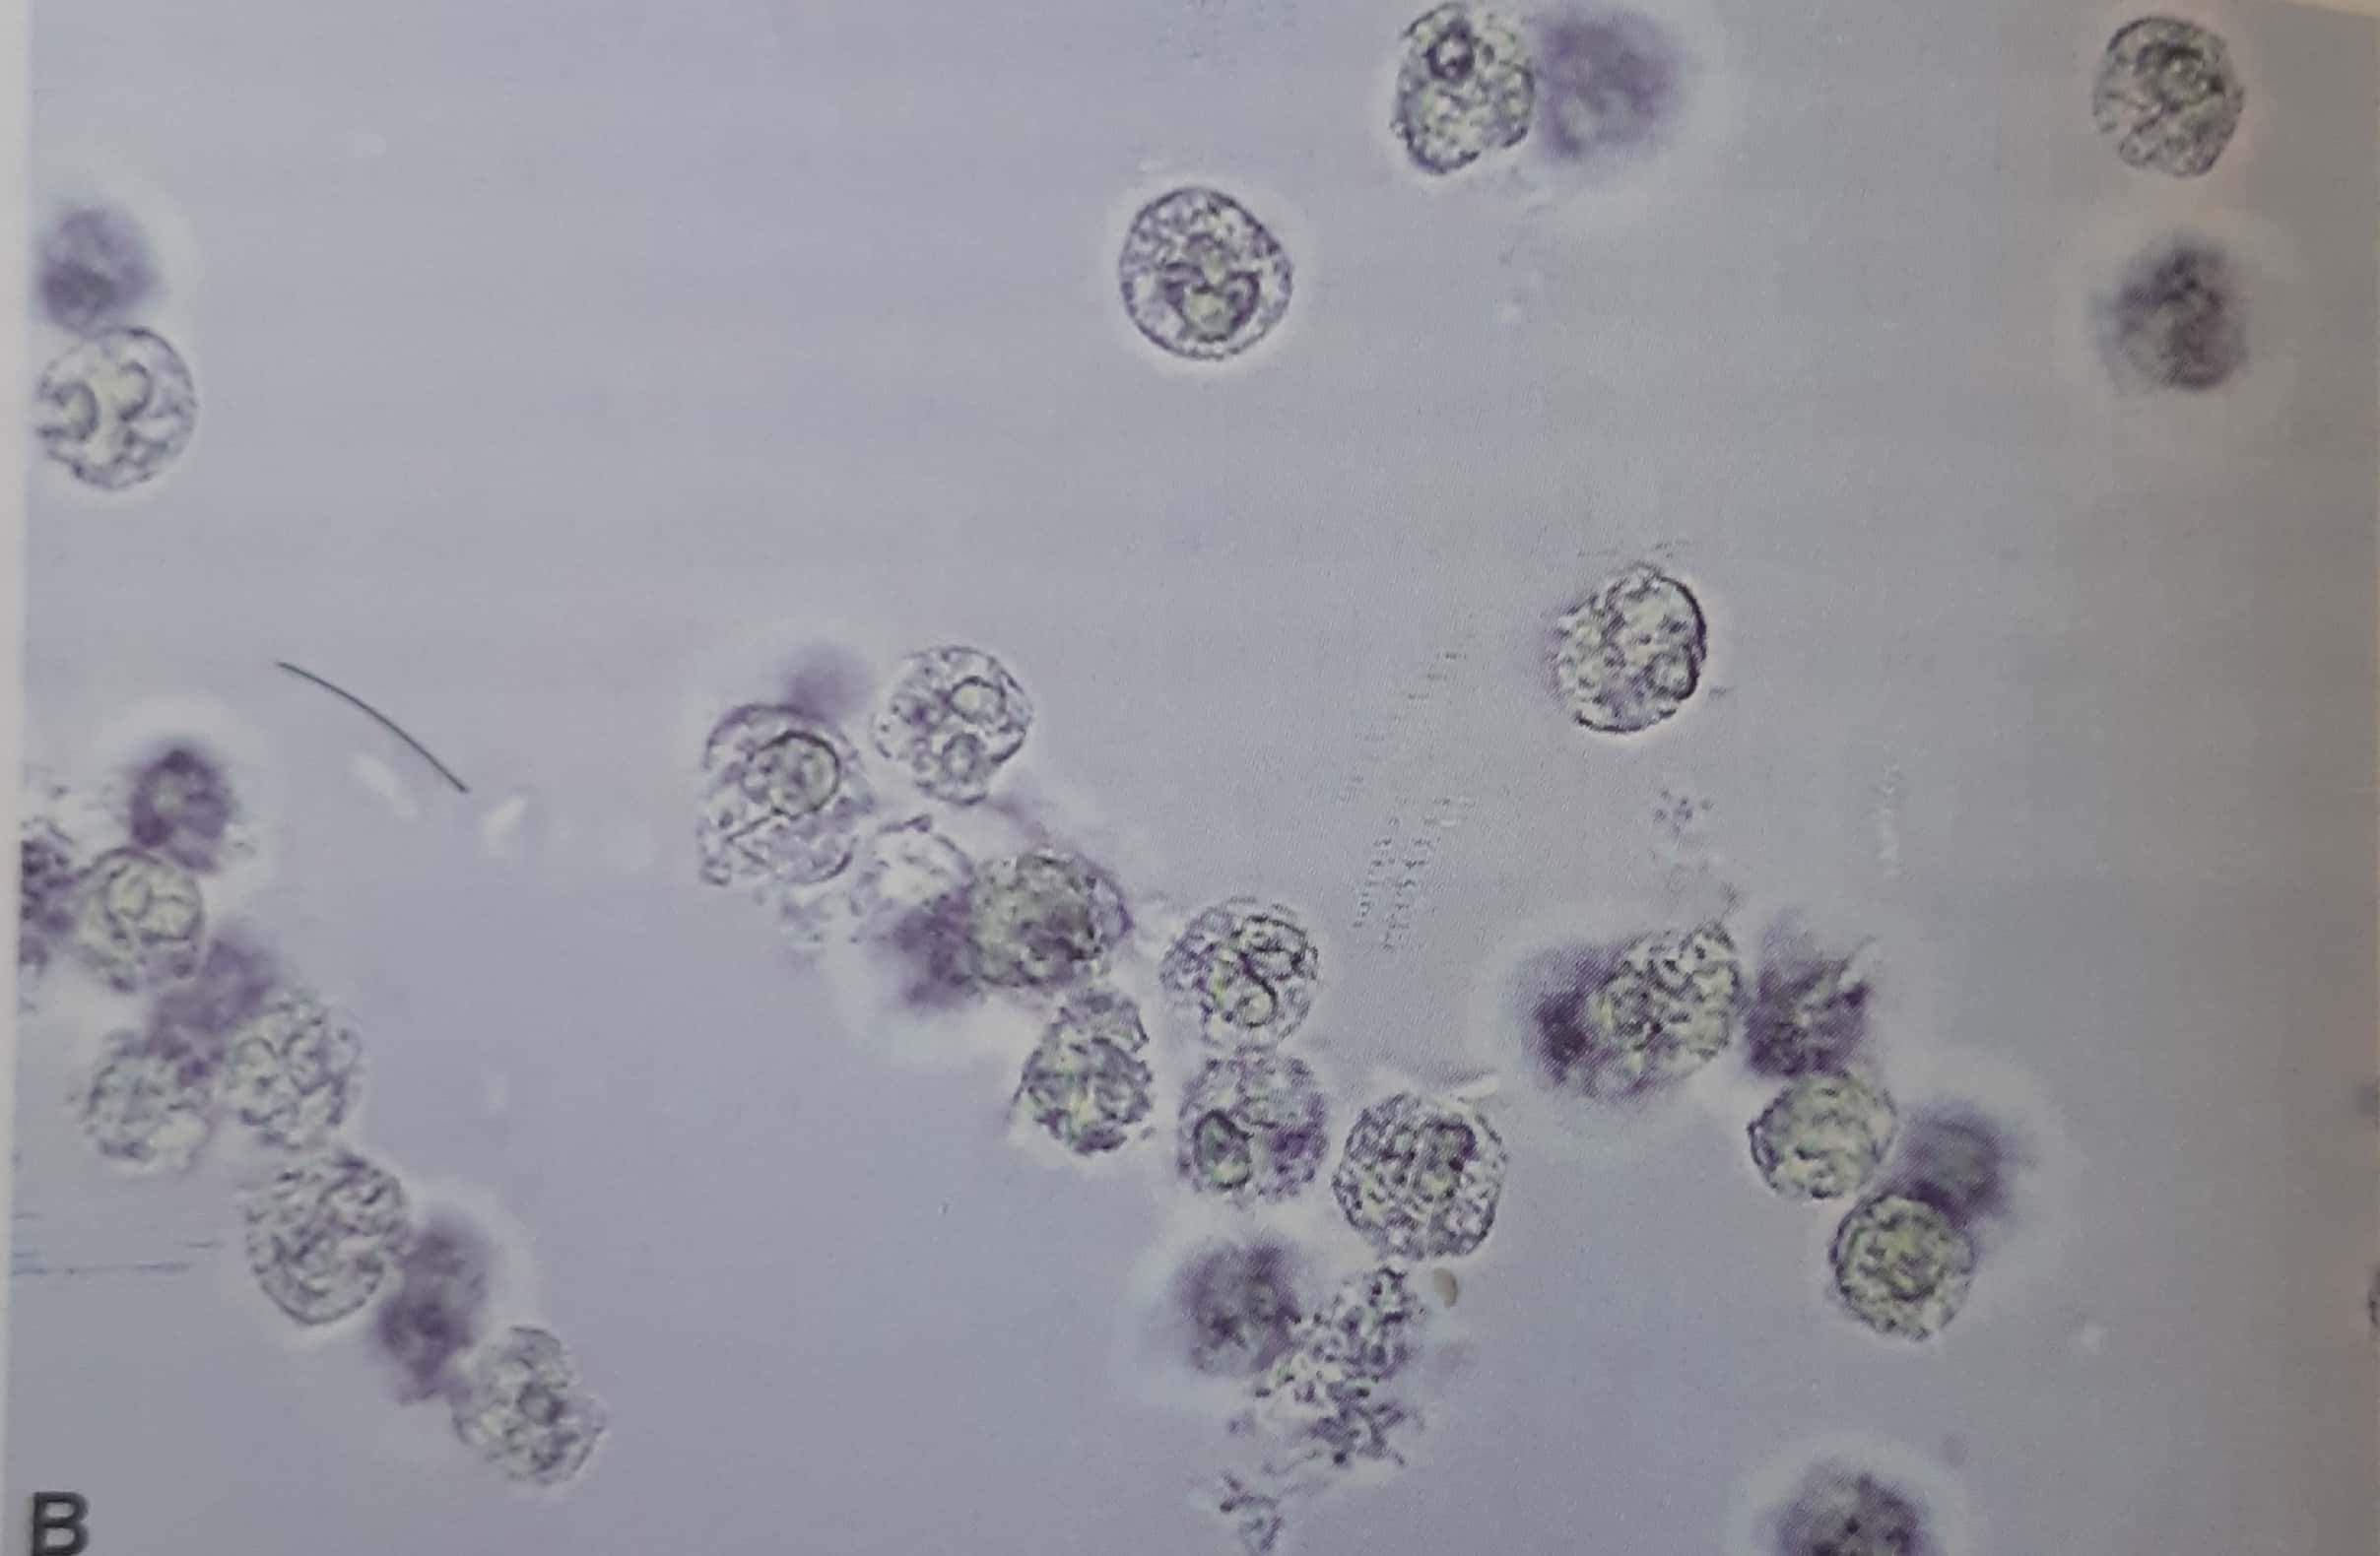WBC: (641, 672, 879, 913), (1096, 167, 1317, 389), (1317, 1078, 1529, 1278), (1564, 908, 1741, 1146), (427, 1308, 632, 1504), (2078, 2, 2271, 205), (207, 1158, 415, 1341), (846, 632, 1060, 809), (1539, 545, 1706, 761), (936, 844, 1141, 1012), (1157, 886, 1326, 1073), (35, 332, 208, 511), (1372, 2, 1537, 189), (1829, 1184, 1993, 1374), (1160, 1040, 1326, 1223), (1004, 990, 1166, 1174), (40, 841, 215, 1007), (1744, 1061, 1921, 1219), (57, 1016, 215, 1177), (222, 983, 367, 1155)
